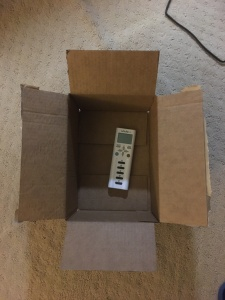innerbox: (63, 94, 162, 224)
outerbox: (19, 48, 210, 272)
product: (107, 128, 132, 190)
